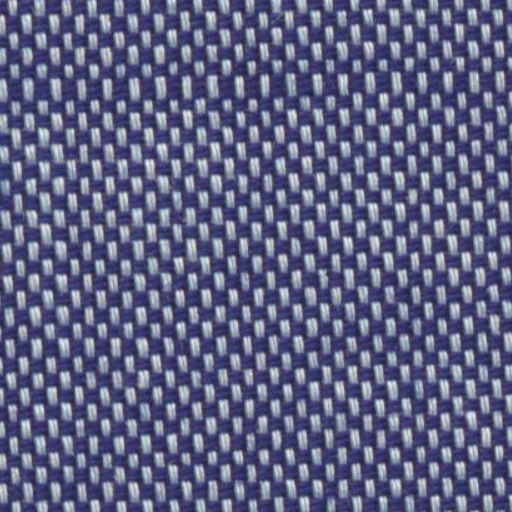TuoSha: (24, 46, 493, 114)
